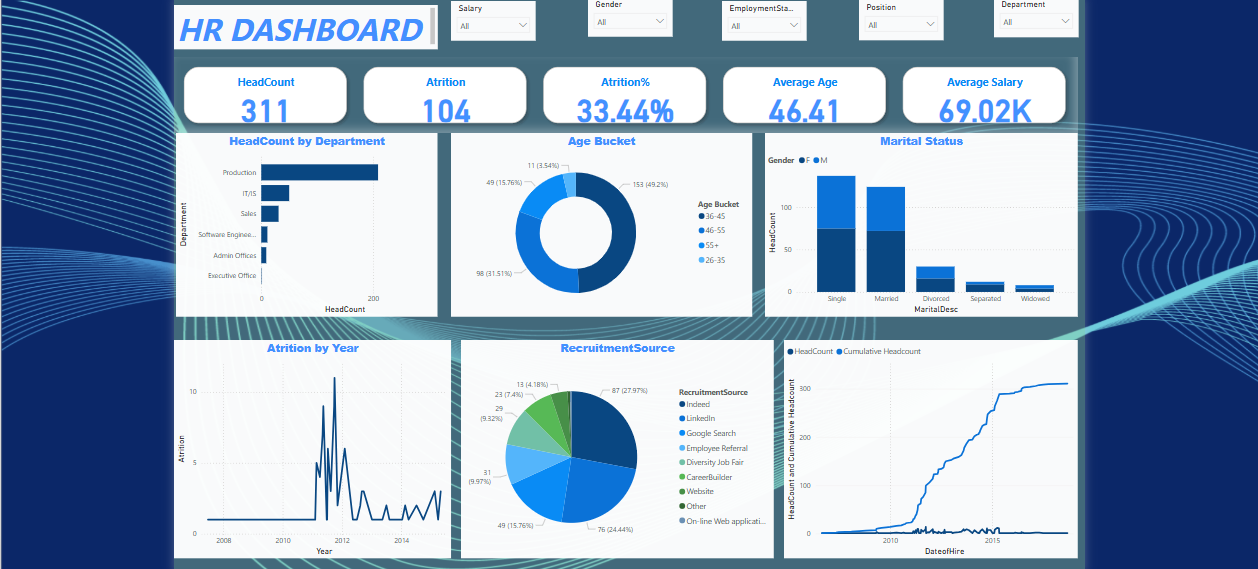

This screenshot's page, from the dashboard's own definition file:
{"tool":"powerbi","page":{"name":"Page 1","canvas":[1580,1000],"ordinal":0},"visuals":[{"type":"cardVisual","fields":{"Data":["New_Measure.HeadCount","New_Measure.Atrition","New_Measure.Atrition%","New_Measure.Average Age","New_Measure.Average Salary"]},"box":[0,103.8,1569.8,132.1],"z":0},{"type":"barChart","fields":{"Category":["HRDataset_v14.Department"],"Y":["New_Measure.HeadCount"]},"box":[4.1,236.4,454.1,319.3],"z":1000},{"type":"donutChart","title":"Age Bucket","fields":{"Y":["New_Measure.HeadCount"],"Category":["HRDataset_v14.Age Bucket"]},"box":[481,236.4,522.5,319.3],"z":2000},{"type":"columnChart","title":"Marital Status","fields":{"Category":["HRDataset_v14.MaritalDesc"],"Y":["New_Measure.HeadCount"],"Series":["HRDataset_v14.Gender"]},"box":[1026.4,236.4,543.3,319.3],"z":3000},{"type":"lineChart","fields":{"Category":["HRDataset_v14.DateofHire"],"Y":["New_Measure.HeadCount","New_Measure.Cumulative Headcount"]},"box":[1059.6,595.1,510.1,379.4],"z":4000},{"type":"lineChart","title":"Atrition by Year","fields":{"Y":["New_Measure.Atrition"],"Category":["HRDataset_v14.DateofHire.Variation.Date Hierarchy.Year","HRDataset_v14.DateofHire.Variation.Date Hierarchy.Quarter","HRDataset_v14.DateofHire.Variation.Date Hierarchy.Month","HRDataset_v14.DateofHire.Variation.Date Hierarchy.Day"]},"box":[0,595.1,481,379.4],"z":5000},{"type":"pieChart","title":"RecruitmentSource","fields":{"Category":["HRDataset_v14.RecruitmentSource"],"Y":["CountNonNull(HRDataset_v14.RecruitmentSource)"]},"box":[497.6,595.1,543.3,379.4],"z":6000},{"type":"group","id":"g1","title":"Group 1","box":[481.1,0,1088.7,75.5],"z":7000},{"type":"slicer","fields":{"Values":["HRDataset_v14.EmploymentStatus"]},"box":[952.1,6.5,147.3,69],"z":7000,"group":"g1"},{"type":"slicer","fields":{"Values":["HRDataset_v14.Position"]},"box":[1190.1,5.6,146.6,69.9],"z":8000,"group":"g1"},{"type":"textbox","box":[0,13.2,458.5,77.4],"z":8000},{"type":"slicer","fields":{"Values":["HRDataset_v14.Gender"]},"box":[719.7,0,147.3,69],"z":9000,"group":"g1"},{"type":"slicer","fields":{"Values":["HRDataset_v14.Department"]},"box":[1423.1,0,146.6,69.9],"z":10000,"group":"g1"},{"type":"slicer","fields":{"Values":["HRDataset_v14.Salary"]},"box":[481.1,6.5,147.3,69],"z":11000,"group":"g1"}]}

Visuals, with their boxes in screenshot pixels (x1, y1, x2, y2):
cardVisual - New_Measure.HeadCount x New_Measure.Atrition: x1=167 y1=51 x2=1082 y2=128
barChart - HRDataset_v14.Department x New_Measure.HeadCount: x1=169 y1=128 x2=434 y2=314
"Age Bucket" donutChart: x1=447 y1=128 x2=752 y2=314
"Marital Status" columnChart: x1=765 y1=128 x2=1082 y2=314
lineChart - HRDataset_v14.DateofHire x New_Measure.HeadCount: x1=785 y1=337 x2=1082 y2=558
"Atrition by Year" lineChart: x1=167 y1=337 x2=447 y2=558
"RecruitmentSource" pieChart: x1=457 y1=337 x2=774 y2=558
"Group 1" group: x1=447 y1=0 x2=1082 y2=34
slicer - HRDataset_v14.EmploymentStatus: x1=722 y1=0 x2=808 y2=34
slicer - HRDataset_v14.Position: x1=861 y1=0 x2=946 y2=34
textbox: x1=167 y1=0 x2=434 y2=43
slicer - HRDataset_v14.Gender: x1=586 y1=0 x2=672 y2=30
slicer - HRDataset_v14.Department: x1=997 y1=0 x2=1082 y2=31
slicer - HRDataset_v14.Salary: x1=447 y1=0 x2=533 y2=34
